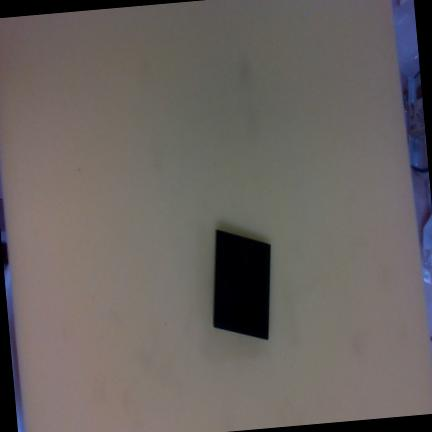tile: (212, 227, 272, 341)
